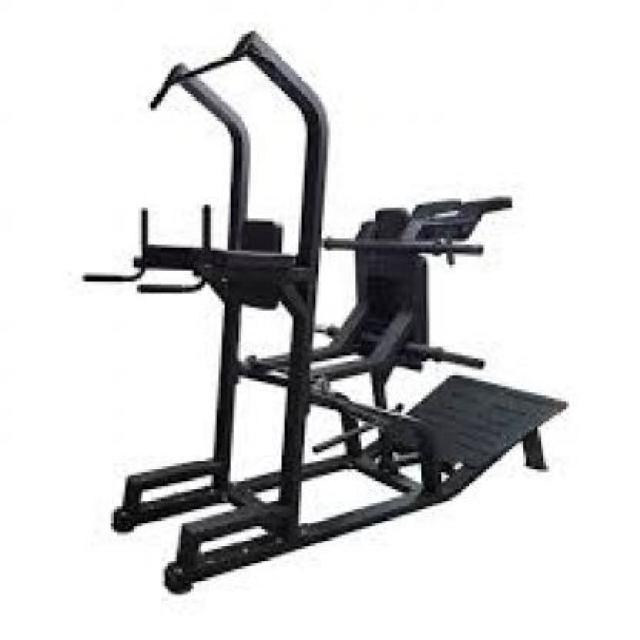chinning dipping: (85, 29, 329, 600)
